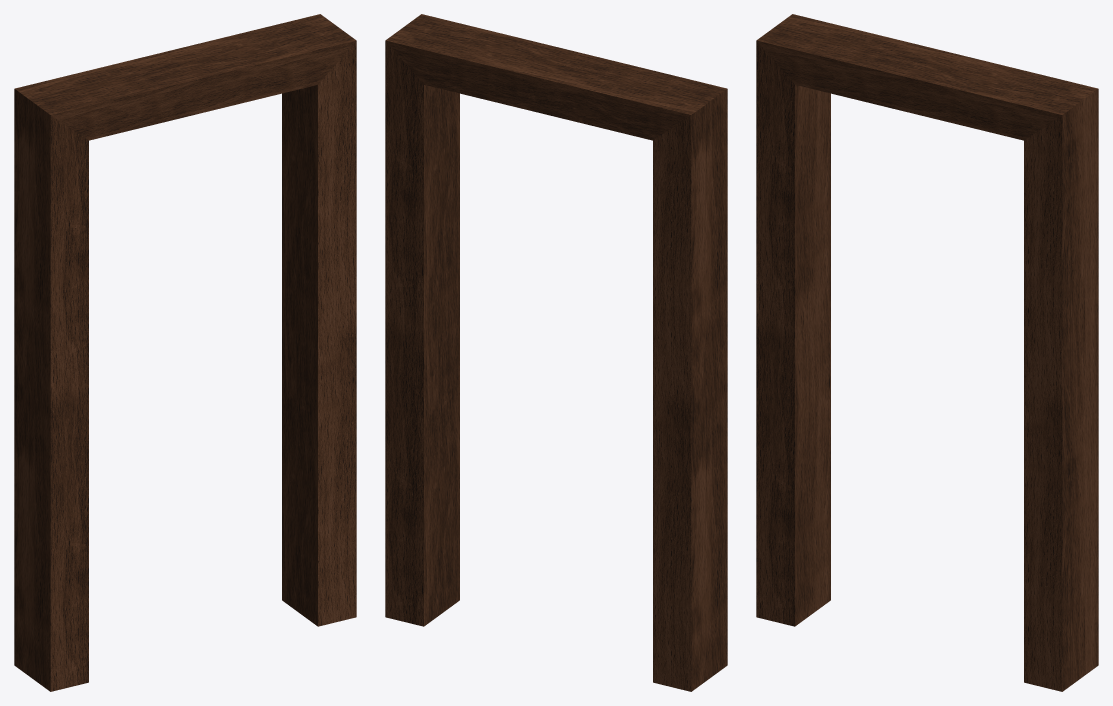
Rendered from door_031.fbx.
3 renders of one model, left to right at view 1: azimuth 30°, elevation 25°; view 2: azimuth 150°, elevation 25°; view 3: azimuth 330°, elevation 25°, orthographic.
Visible parts, largest first — view 1: door_031; view 2: door_031; view 3: door_031.
Boxes of the visible parts, left/top/right/bottom form: door_031: left=14, top=14, right=356, bottom=691; door_031: left=385, top=14, right=727, bottom=691; door_031: left=756, top=14, right=1098, bottom=691.
Size of the model in its own units: 127 by 26.01 by 229.
